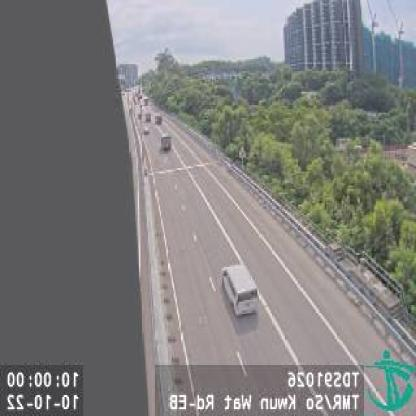Car: (218, 262, 261, 318), (160, 132, 174, 151), (143, 126, 150, 136)
